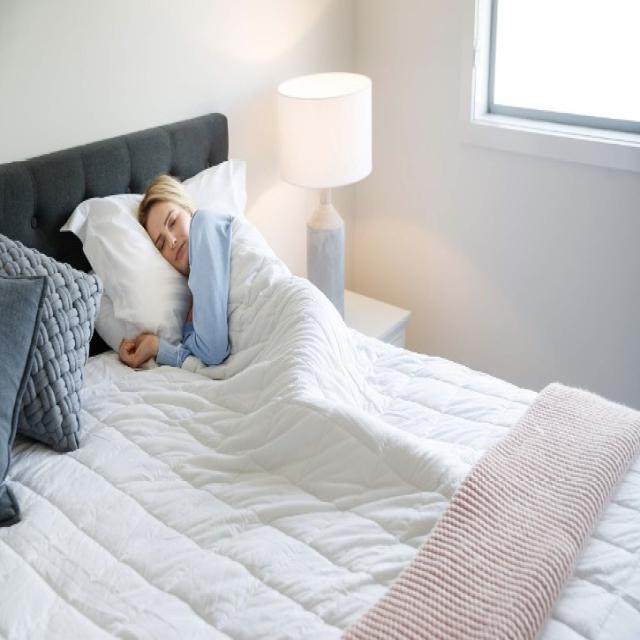sleeping-person: (114, 151, 500, 580)
